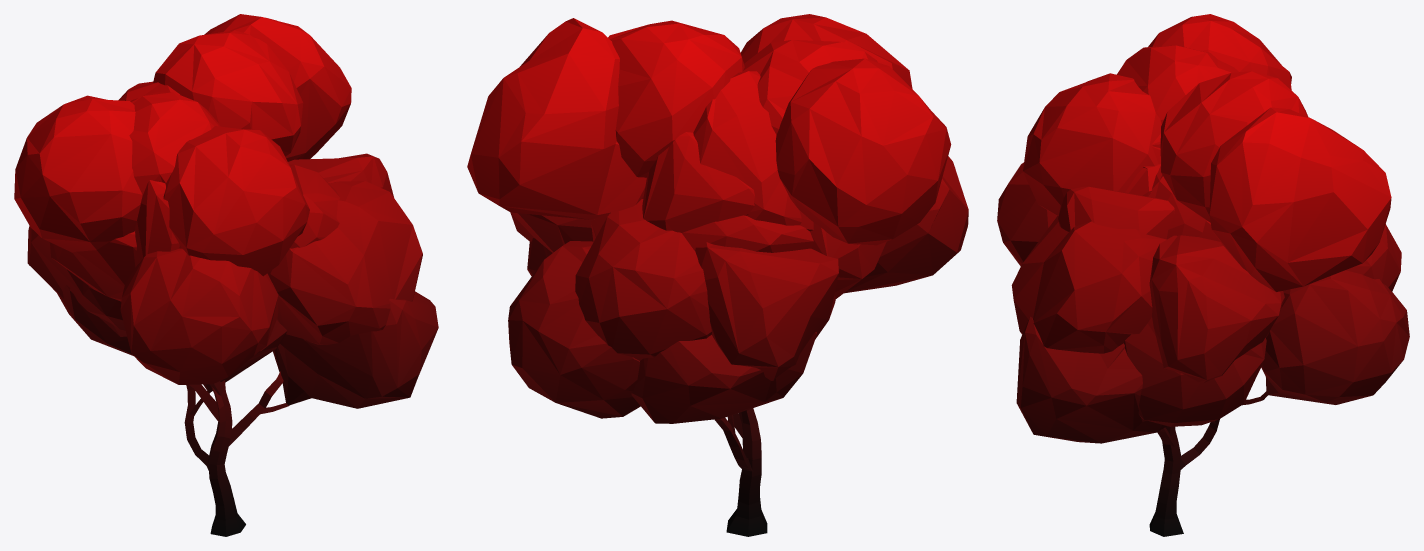
The model's file is TreeMaple05.fbx.
3 views of the same model, side by side, from view 1: azimuth 30°, elevation 25°; view 2: azimuth 150°, elevation 25°; view 3: azimuth 270°, elevation 25° (orthographic). The views are drawn at different scales.
Parts seen in each view (by area): view 1: TreeMaple05_LOD0; view 2: TreeMaple05_LOD0; view 3: TreeMaple05_LOD0.
Part boxes in pixels (left/top/right/bottom): TreeMaple05_LOD0: left=14, top=14, right=438, bottom=536; TreeMaple05_LOD0: left=467, top=14, right=968, bottom=536; TreeMaple05_LOD0: left=997, top=14, right=1409, bottom=536.
Size of what is drawn, in the model's own units: 841 by 987 by 793.
